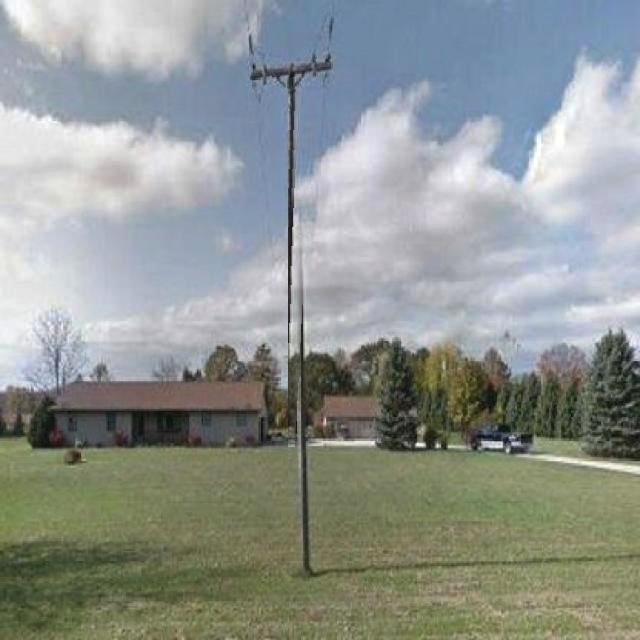crossarm: (250, 49, 333, 89)
pole: (288, 63, 299, 575)
